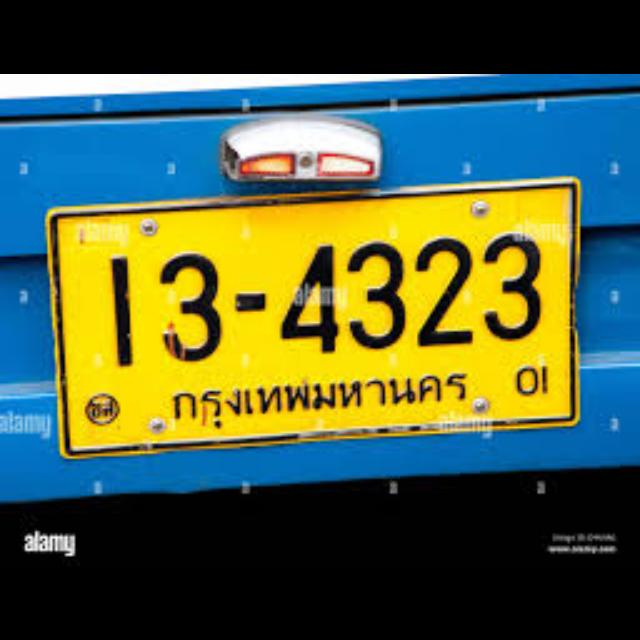licenseplate: (47, 175, 580, 458)
